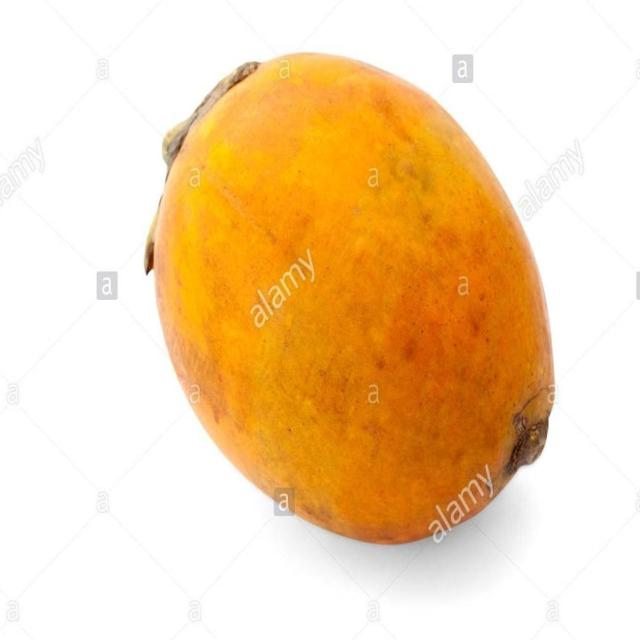good: (147, 52, 558, 548)
